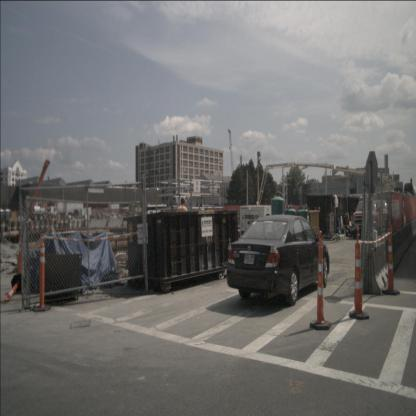movable_object-trafficcone: (309, 230, 332, 328), (349, 227, 369, 319), (32, 236, 51, 311), (382, 222, 401, 294), (3, 273, 27, 303), (13, 234, 24, 293)
vehicle-car: (227, 214, 330, 307)
vehicle-truck: (374, 192, 404, 236), (353, 198, 381, 238)
